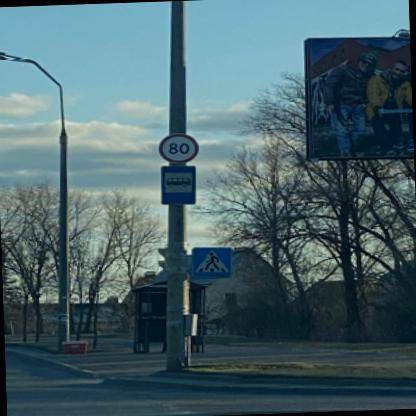crosswalk: (190, 245, 231, 277)
speedlimit: (156, 132, 198, 162)
